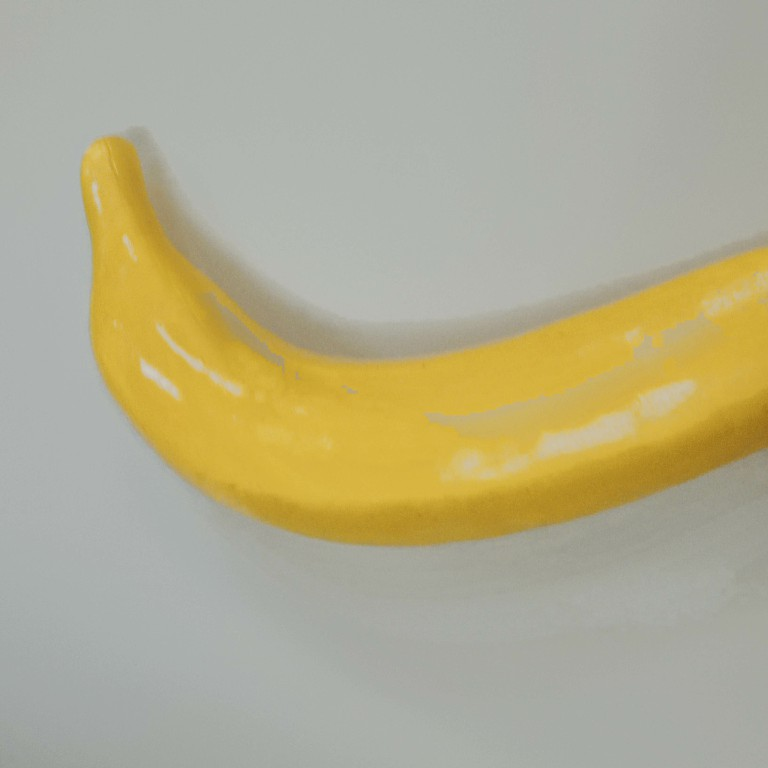fruit_banana: (75, 127, 768, 550)
